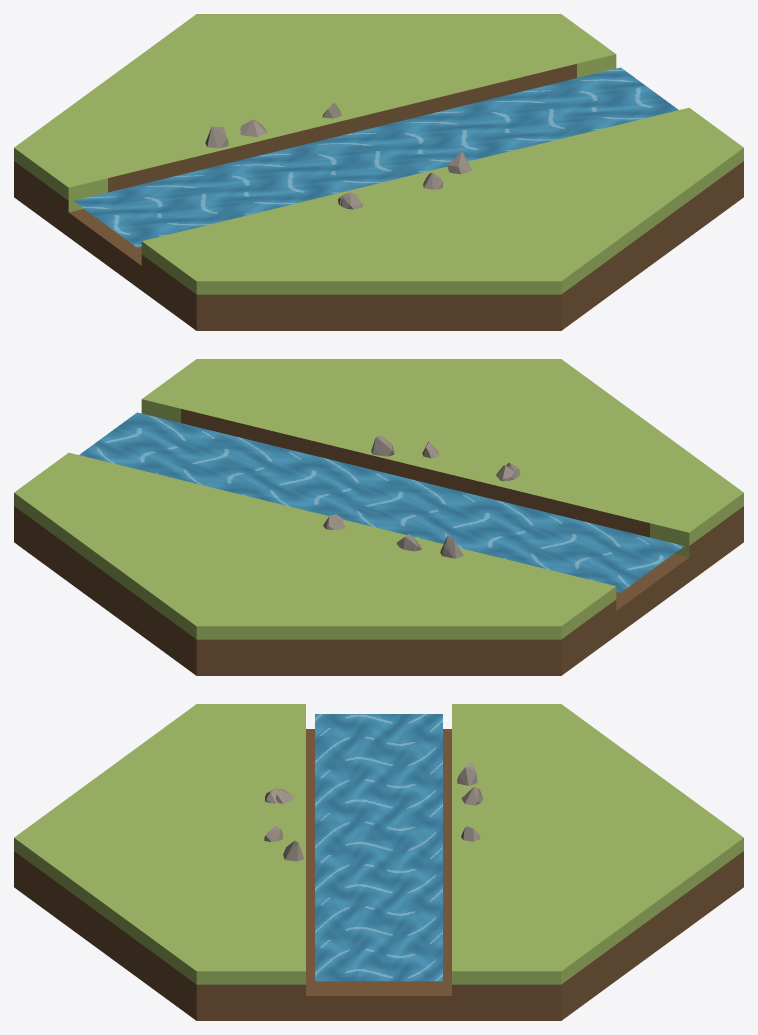
File: tile_river_straight.glb
3 renders of one model, top to bottom at view 1: azimuth 30°, elevation 25°; view 2: azimuth 150°, elevation 25°; view 3: azimuth 270°, elevation 25°, orthographic.
Parts seen in each view (by area): view 1: ground, water, bank_stones; view 2: ground, water, bank_stones; view 3: ground, water, bank_stones.
Part boxes in pixels (x1,y1,x2,y2): ground: [14, 14, 743, 330]; water: [73, 67, 678, 247]; bank_stones: [205, 102, 471, 209]; ground: [14, 359, 743, 675]; water: [79, 412, 684, 592]; bank_stones: [323, 435, 520, 558]; ground: [14, 704, 743, 1020]; water: [315, 714, 442, 981]; bank_stones: [264, 762, 482, 861].
Bounding box in the file's own units: 1.73 × 0.2013 × 2.
4 materials, 1 textured.
